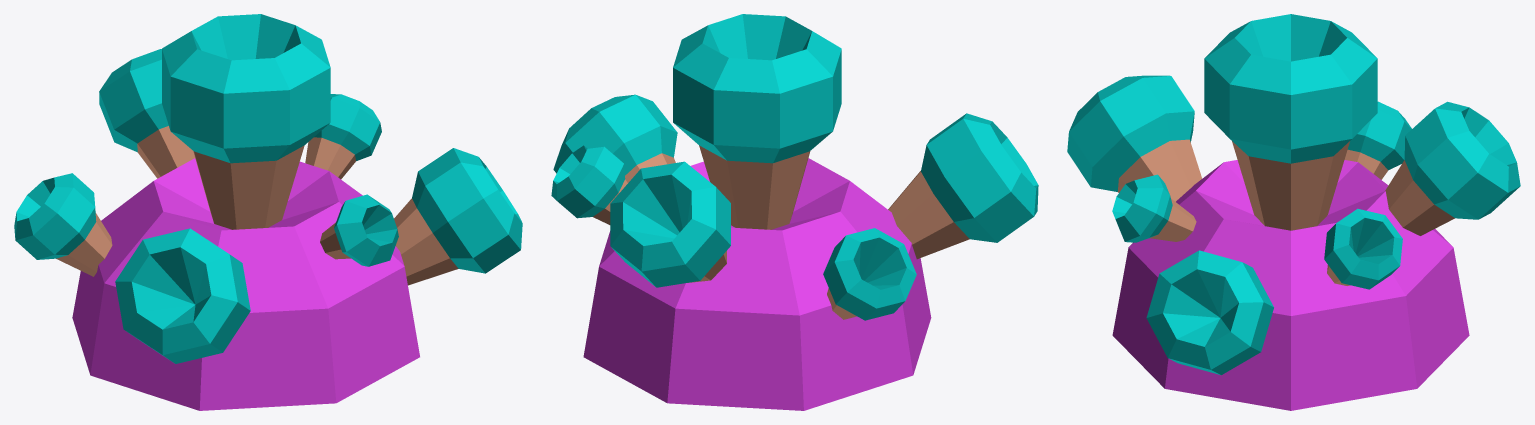
The model's file is coral_5.fbx.
3 renders of one model, left to right at view 1: azimuth 30°, elevation 25°; view 2: azimuth 150°, elevation 25°; view 3: azimuth 270°, elevation 25°, orthographic.
Parts seen in each view (by area): view 1: Cylindre.001; view 2: Cylindre.001; view 3: Cylindre.001.
Boxes of the visible parts, <box> form: Cylindre.001: <box>14,14,522,410</box>; Cylindre.001: <box>551,14,1038,410</box>; Cylindre.001: <box>1067,14,1520,410</box>.
Bounding box in the file's own units: 246 × 165 × 228.
